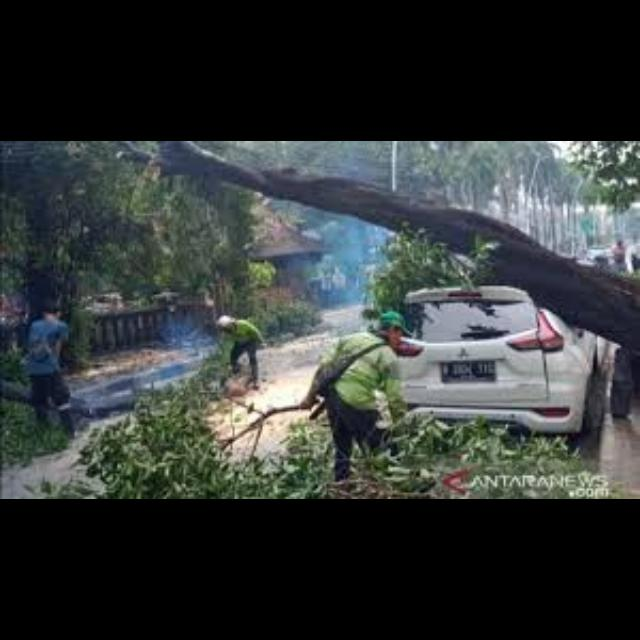Fallen Tree: (135, 142, 640, 350)
